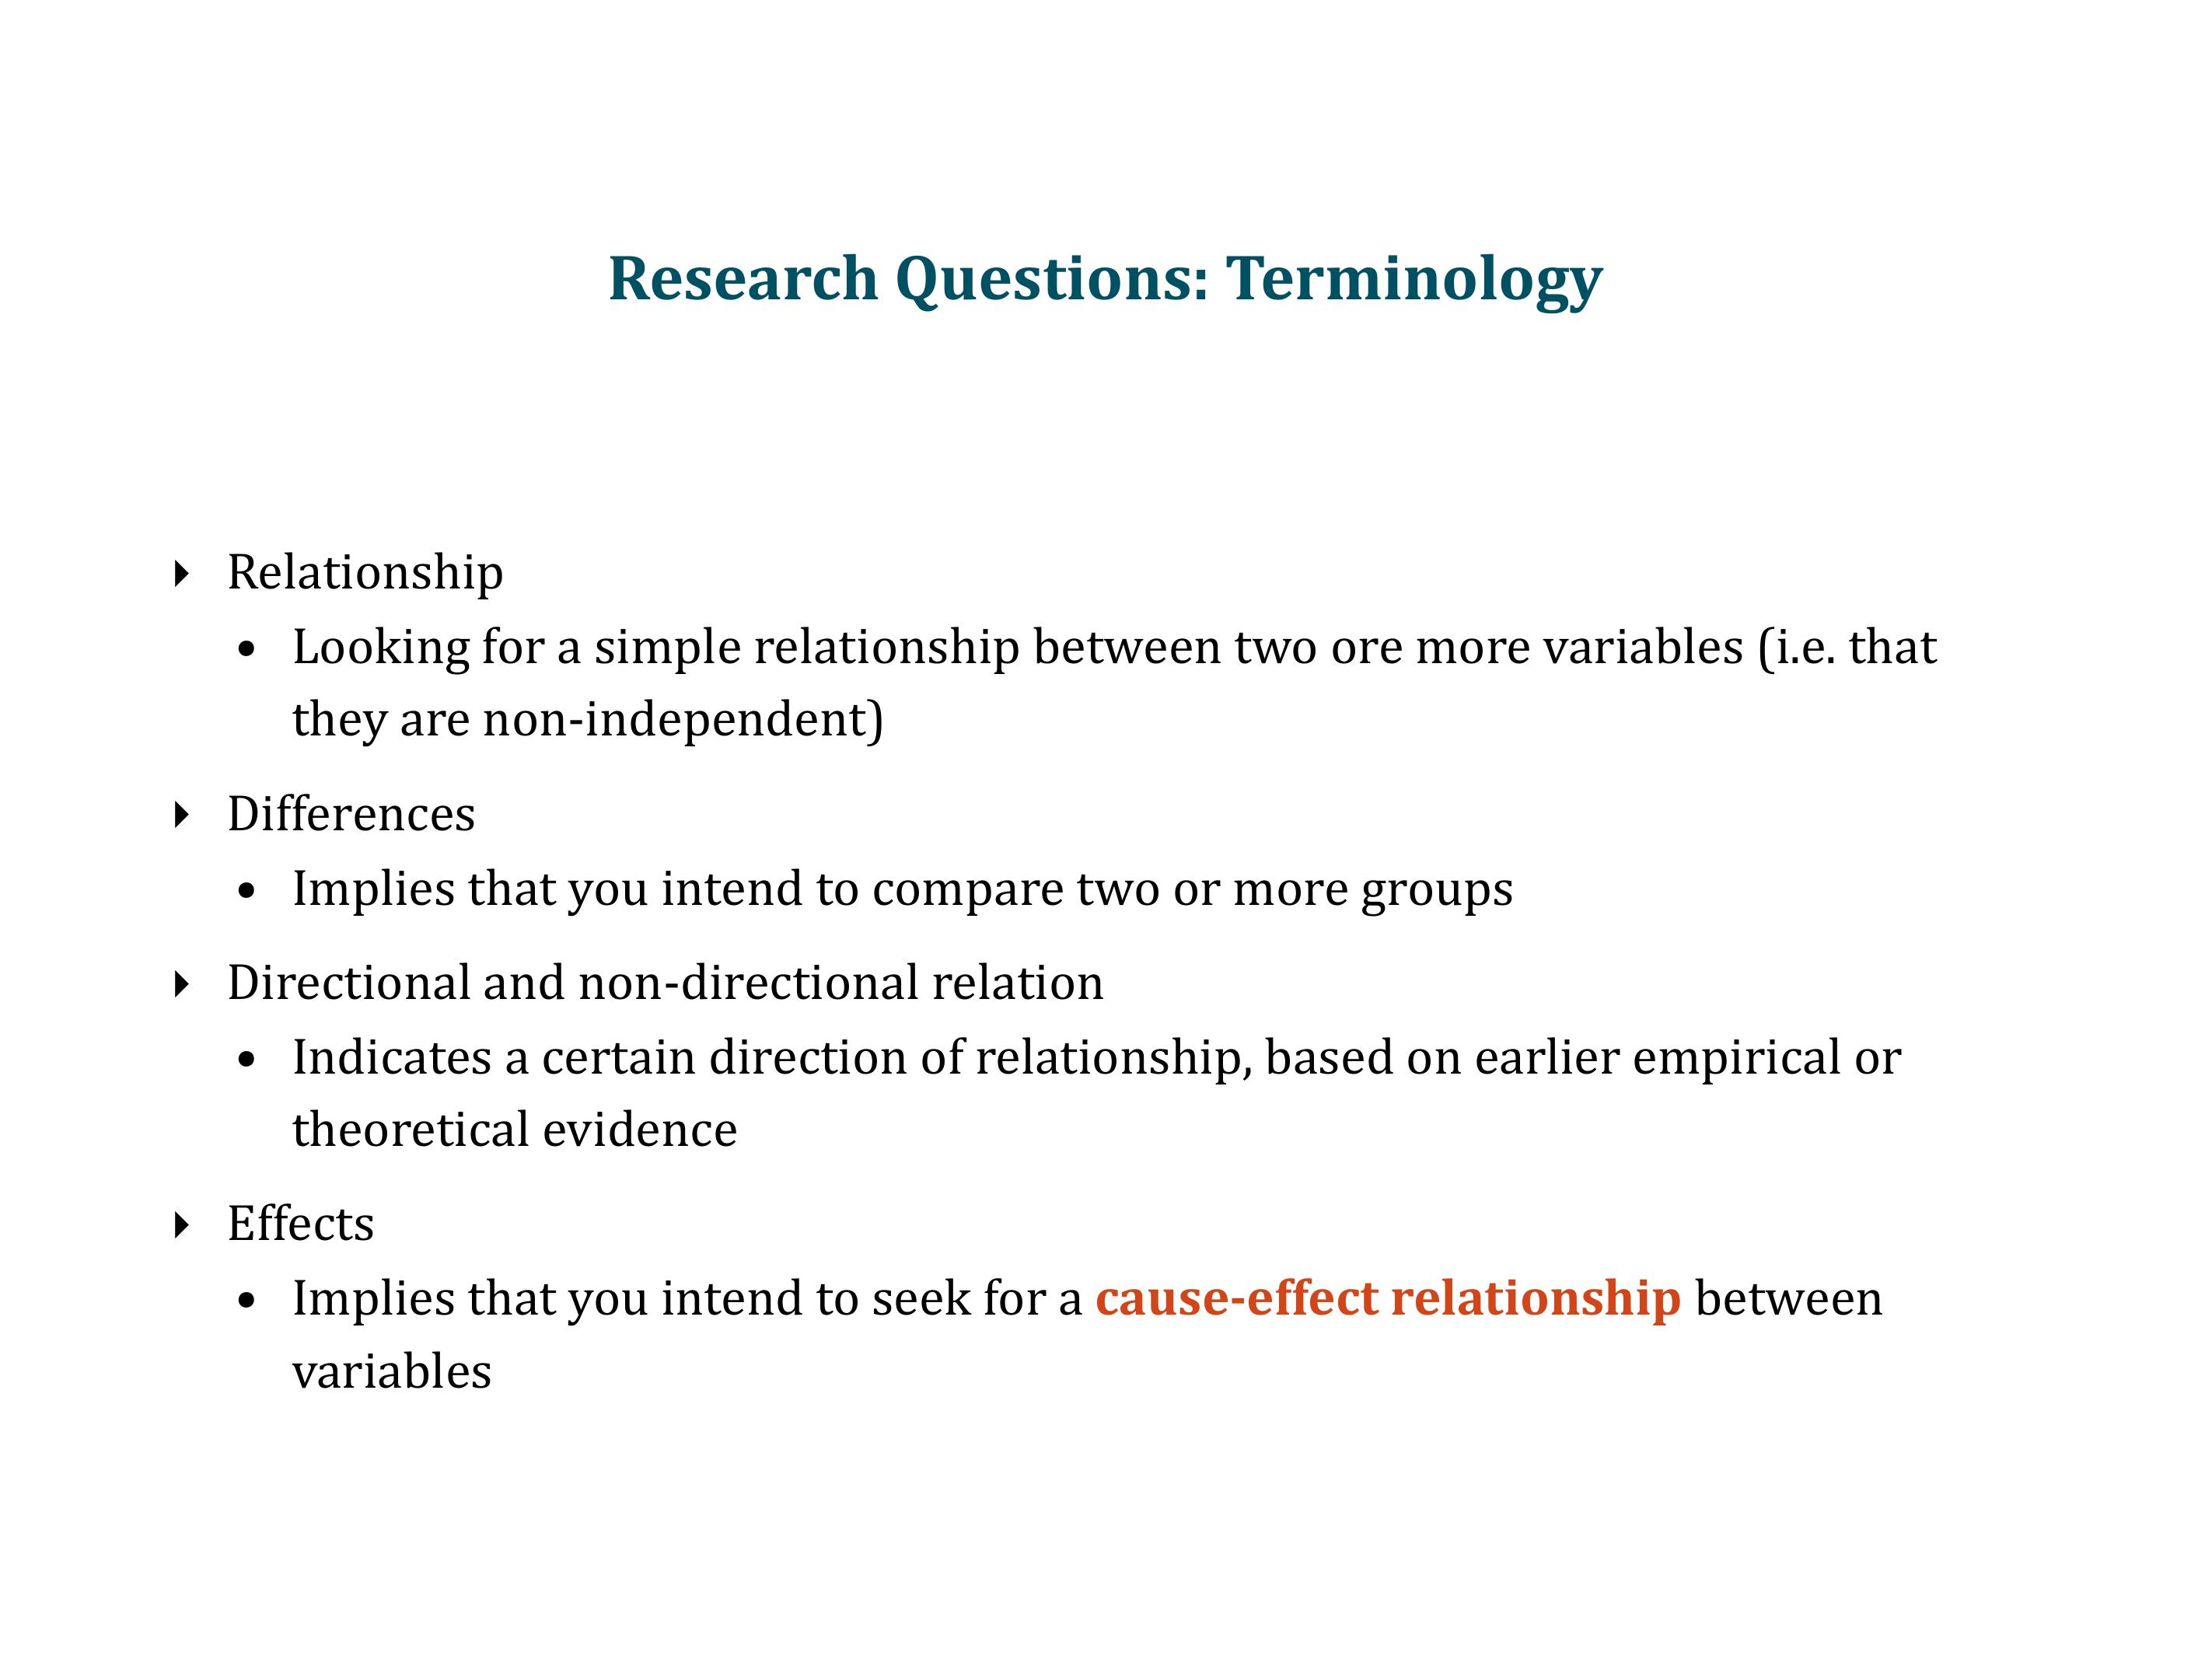Title: (589, 234, 1612, 328)
